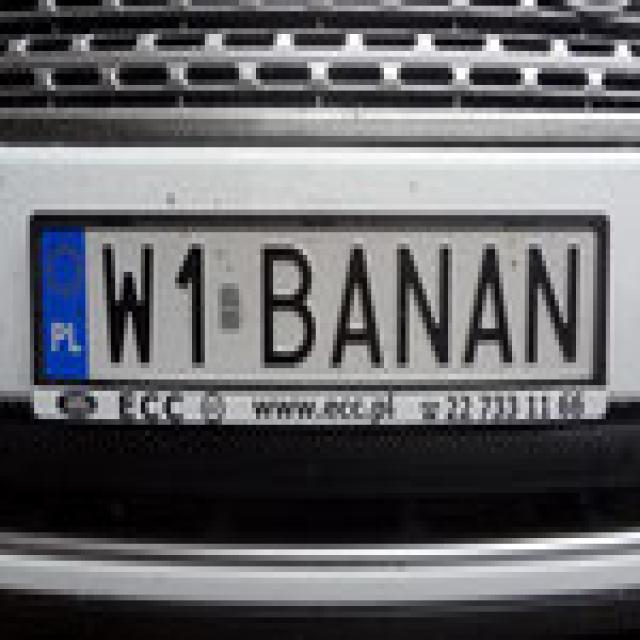pl_license_plate: (34, 210, 602, 373)
